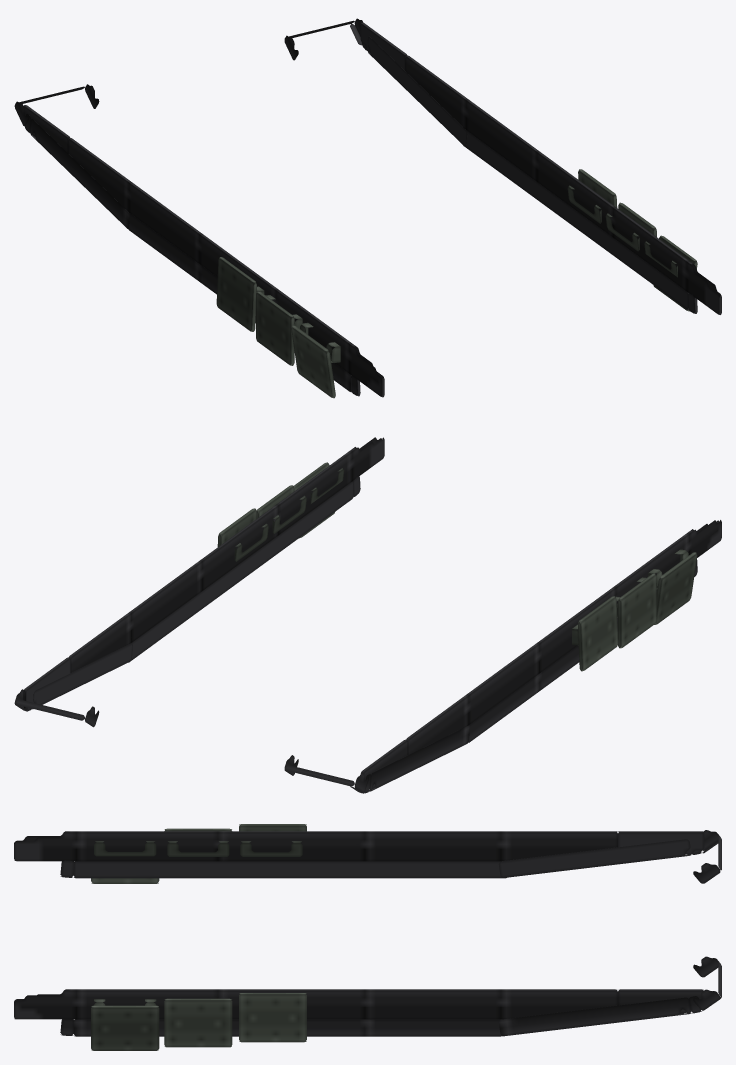
The model's file is bort_t72b3.obj.
The picture shows the model from 3 angles, top to bottom: view 1: azimuth 30°, elevation 25°; view 2: azimuth 150°, elevation 25°; view 3: azimuth 270°, elevation 25°; orthographic projection. The views are drawn at different scales.
Visible parts, largest first — view 1: cubeddd.013, iron; view 2: cubeddd.013, iron; view 3: cubeddd.013, iron.
Part boxes in pixels (bbox=[...]): cubeddd.013: bbox=[14, 18, 721, 397]; iron: bbox=[216, 169, 697, 398]; cubeddd.013: bbox=[14, 437, 721, 793]; iron: bbox=[217, 462, 697, 671]; cubeddd.013: bbox=[14, 830, 721, 1036]; iron: bbox=[91, 824, 306, 1050].
Size of the model in its own units: 4.29 by 0.6995 by 7.36.
